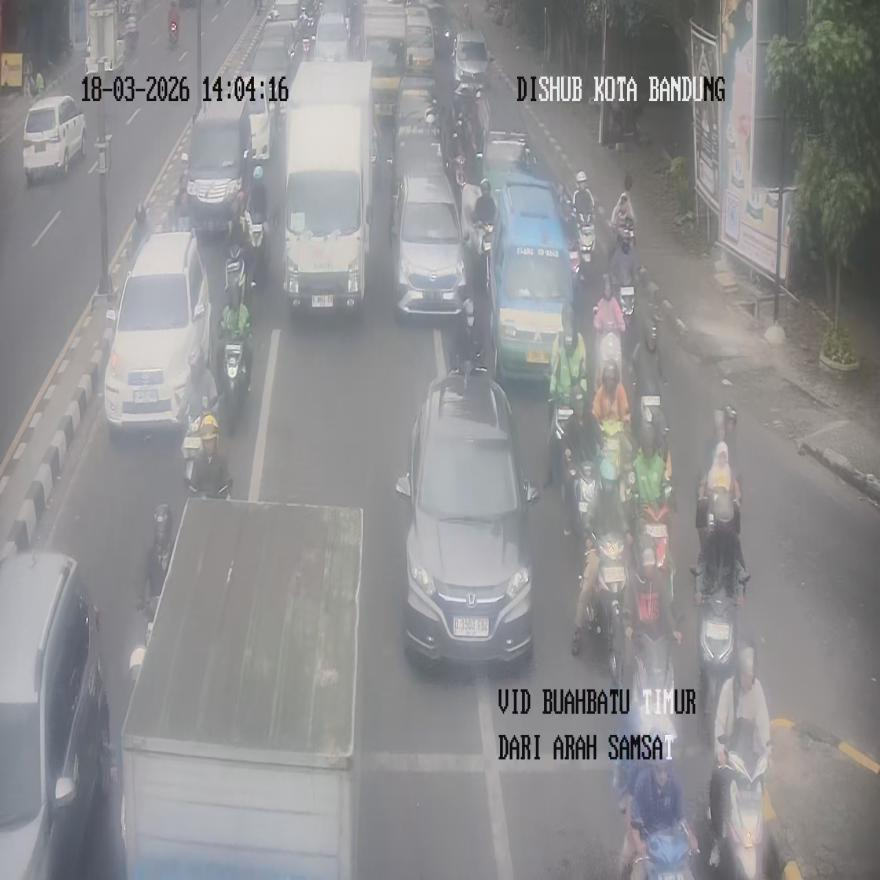Motor: (120, 497, 363, 877), (396, 366, 539, 667), (0, 549, 115, 878), (104, 229, 213, 433), (487, 174, 579, 384), (391, 145, 466, 316), (22, 93, 86, 184)
